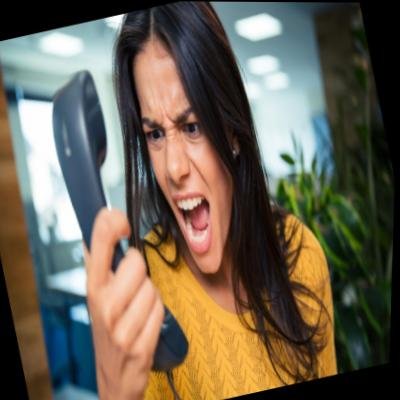angry: (124, 44, 252, 278)
